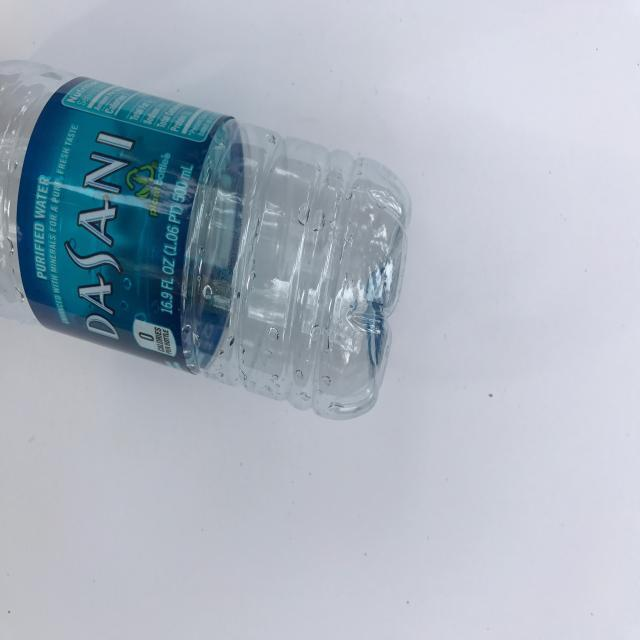plastic: (1, 56, 416, 432)
